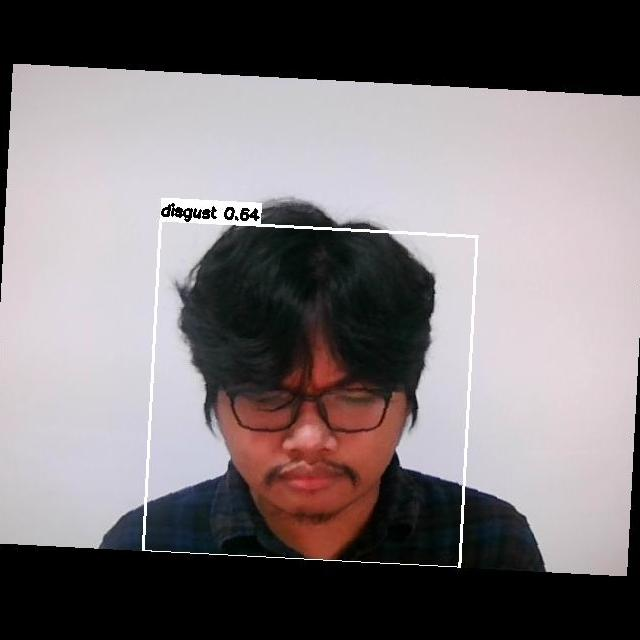Angry: (214, 359, 409, 503)
